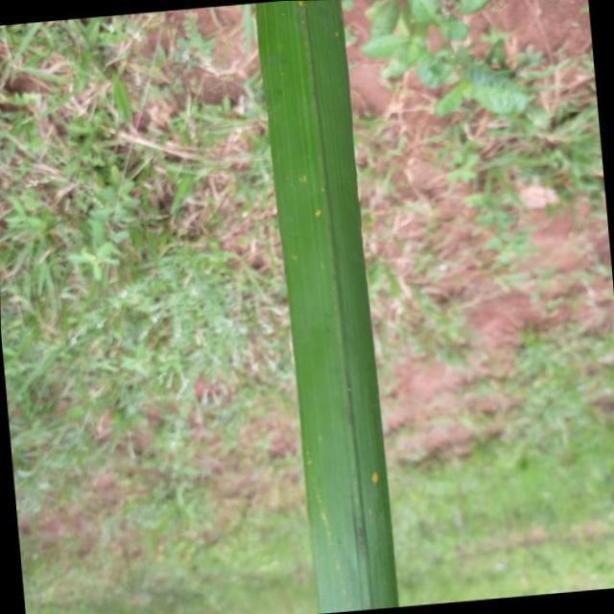Kalium: (248, 3, 404, 614)
